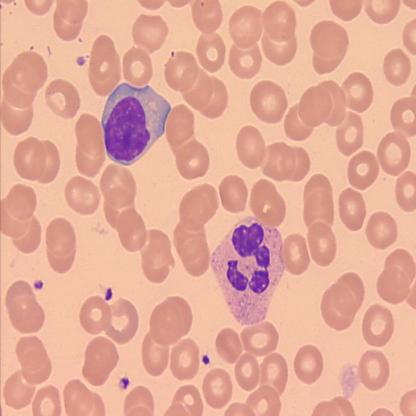Atypical lymphocyte: (211, 219, 281, 323), (102, 80, 170, 164)
